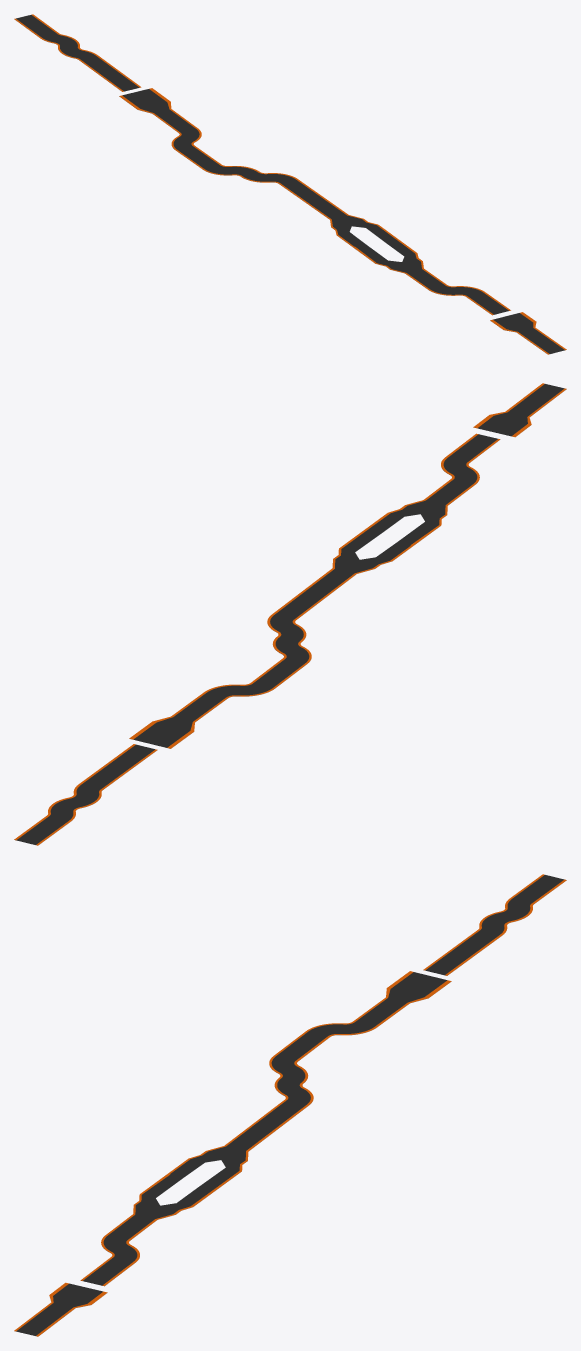
Rendered from baan test 1.fbx.
The picture shows the model from 3 angles, top to bottom: view 1: azimuth 30°, elevation 25°; view 2: azimuth 150°, elevation 25°; view 3: azimuth 330°, elevation 25°; orthographic projection. The views are drawn at different scales.
Visible parts, largest first — view 1: pCube152, pCube157, pasted__pCube147, pCube145, pasted__pCube150, pCube160, pasted__pCube144, pasted__pCube25, pasted__pCube146, pasted__pCube145, pasted__pCube149, pasted__pCube148; view 2: pCube152, pCube157, pasted__pCube147, pCube145, pCube160, pasted__pCube150, pasted__pCube25, pasted__pCube145, pasted__pCube146, pasted__pCube144, pasted__pCube149, pasted__pCube148; view 3: pCube152, pCube157, pasted__pCube147, pCube145, pasted__pCube150, pCube160, pasted__pCube144, pasted__pCube25, pasted__pCube146, pasted__pCube145, pasted__pCube149, pasted__pCube148.
Boxes of the visible parts, x1,y1,x2,y2 form: pCube152: [330, 215, 400, 246]; pCube157: [353, 241, 423, 273]; pasted__pCube147: [279, 179, 348, 219]; pCube145: [119, 88, 171, 113]; pasted__pCube150: [516, 327, 566, 354]; pCube160: [490, 312, 536, 332]; pasted__pCube144: [96, 68, 141, 91]; pasted__pCube25: [14, 14, 58, 38]; pasted__pCube146: [176, 145, 221, 169]; pasted__pCube145: [152, 109, 196, 132]; pasted__pCube149: [466, 292, 510, 315]; pasted__pCube148: [405, 268, 446, 289]; pCube152: [332, 528, 412, 573]; pCube157: [367, 500, 447, 545]; pasted__pCube147: [272, 568, 356, 619]; pCube145: [129, 716, 194, 748]; pCube160: [473, 412, 531, 437]; pasted__pCube150: [505, 383, 566, 417]; pasted__pCube25: [14, 815, 70, 845]; pasted__pCube145: [171, 692, 227, 722]; pasted__pCube146: [251, 658, 306, 688]; pasted__pCube144: [101, 744, 157, 773]; pasted__pCube149: [446, 433, 500, 462]; pasted__pCube148: [424, 479, 474, 505]; pCube152: [168, 1146, 248, 1191]; pCube157: [133, 1174, 213, 1219]; pasted__pCube147: [224, 1100, 308, 1151]; pCube145: [386, 971, 451, 1003]; pasted__pCube150: [14, 1302, 75, 1336]; pCube160: [49, 1282, 107, 1307]; pasted__pCube144: [423, 945, 479, 975]; pasted__pCube25: [510, 874, 566, 903]; pasted__pCube146: [274, 1031, 329, 1061]; pasted__pCube145: [353, 997, 409, 1027]; pasted__pCube149: [80, 1257, 135, 1286]; pasted__pCube148: [106, 1214, 157, 1240].
Bounding box in the file's own units: 595 × 1 × 5175.
